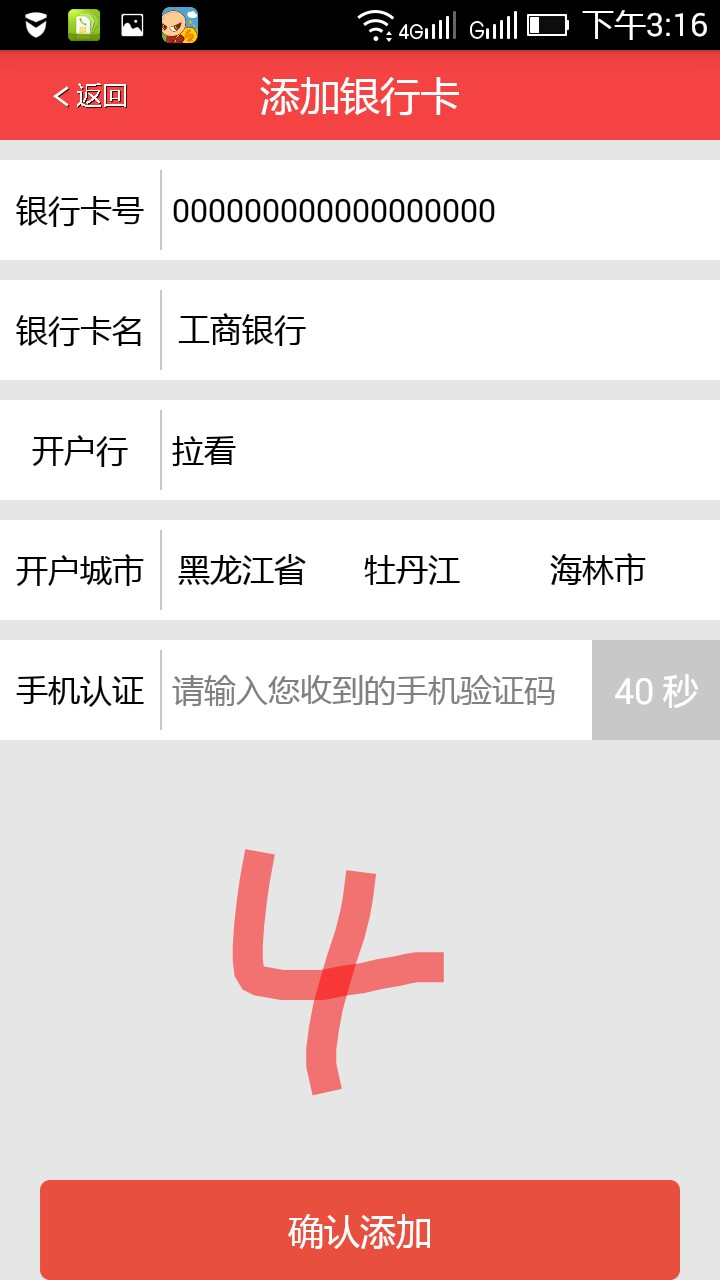button: (32, 1167, 692, 1280)
textview: (1, 156, 720, 756)
